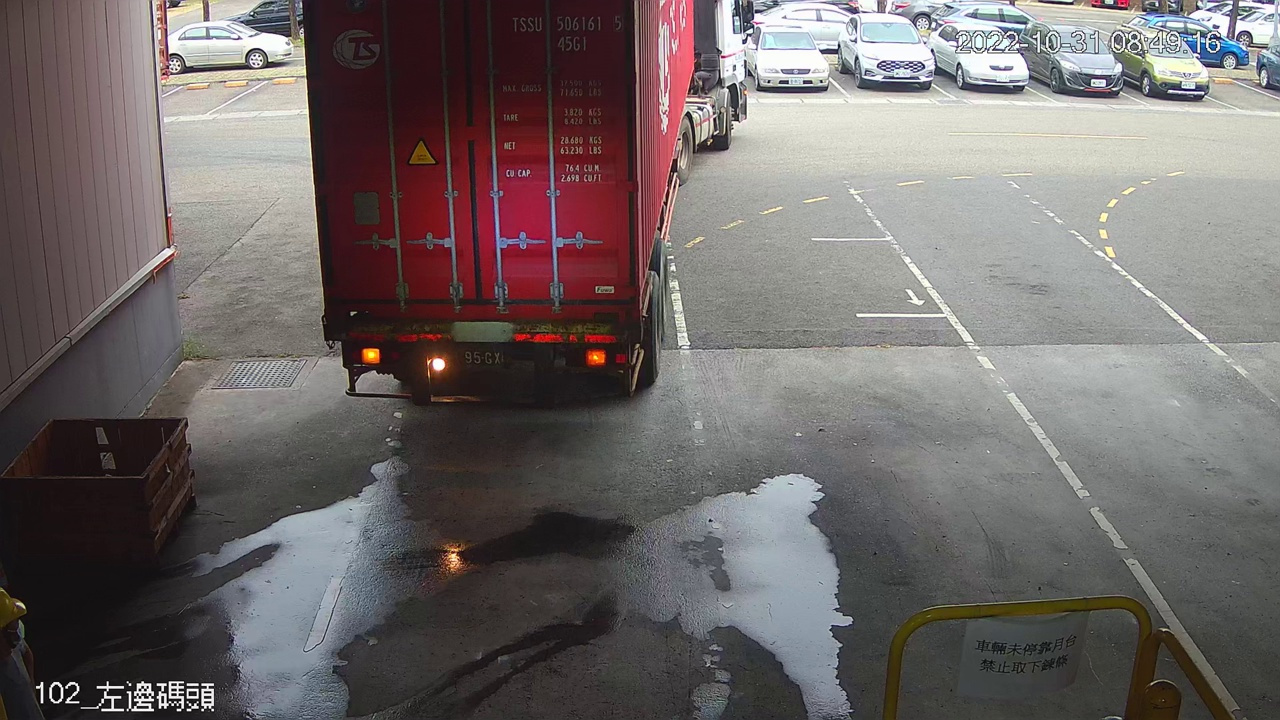container: (504, 9, 627, 58)
